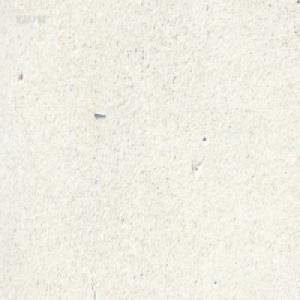Nail: (92, 108, 106, 117)
